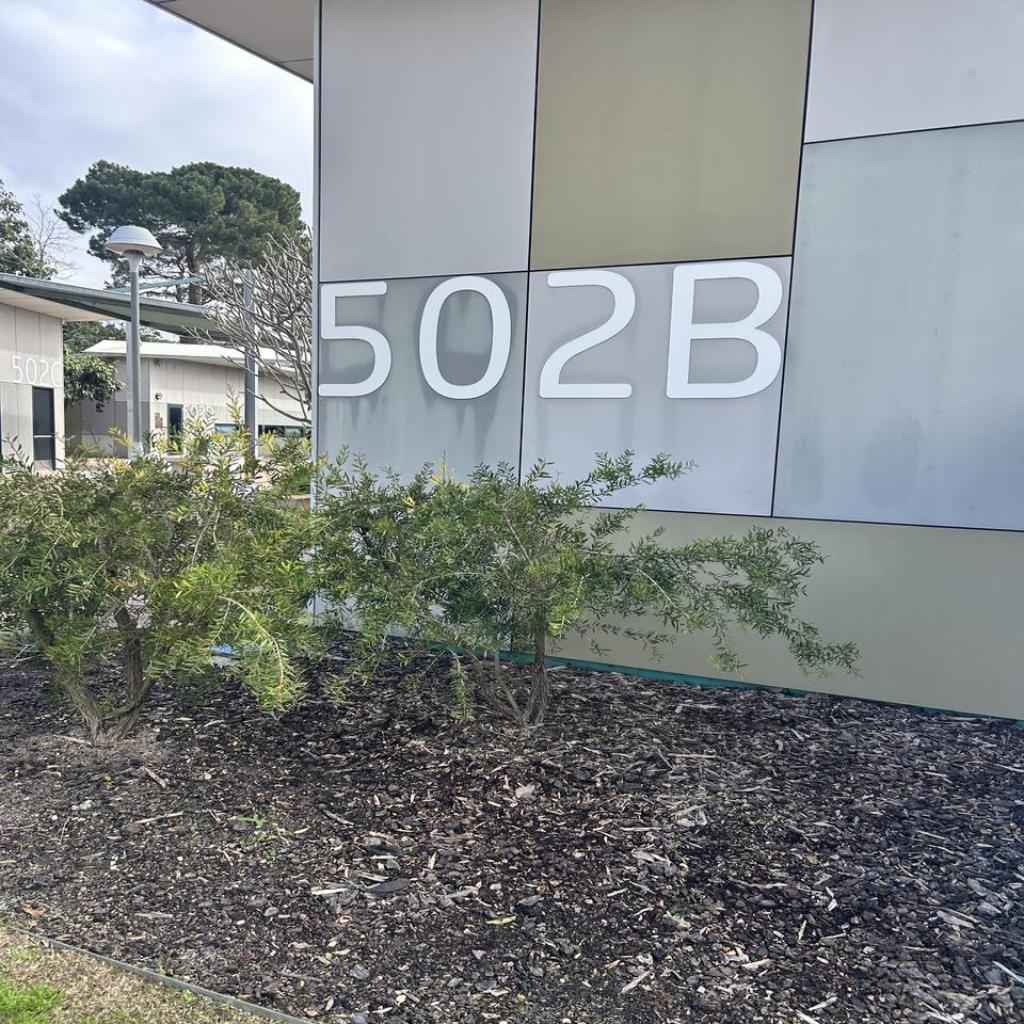BuildingCodes: (316, 260, 788, 402)
